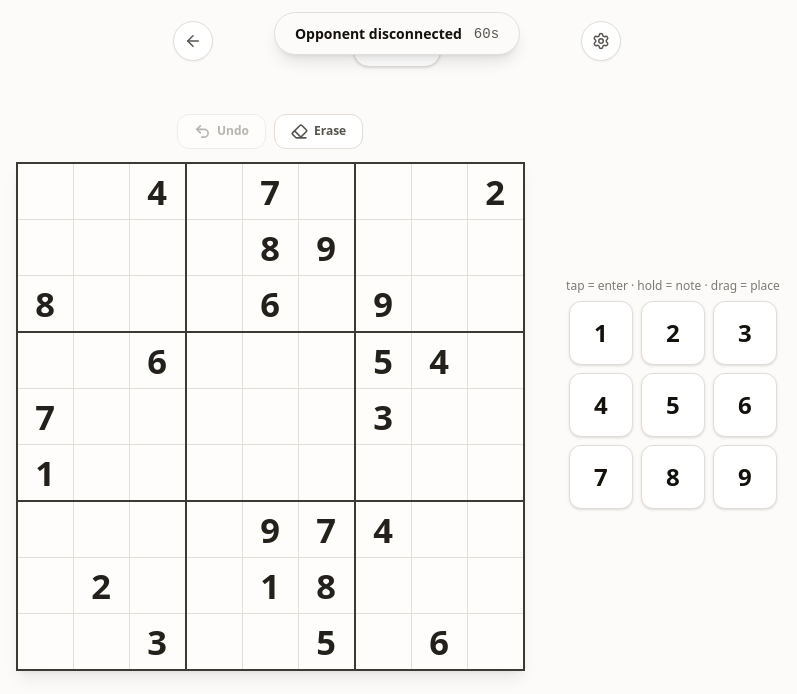
Scenario: MultiplayerGame disconnect overlay › keeps the loser's board playable while the opponent is away
expect the message shows "Opponent disconnected": met, box [295, 24, 462, 42]
Click the cell named "Cell row 1 column 1, empty" at (45, 192), box [18, 164, 73, 219]
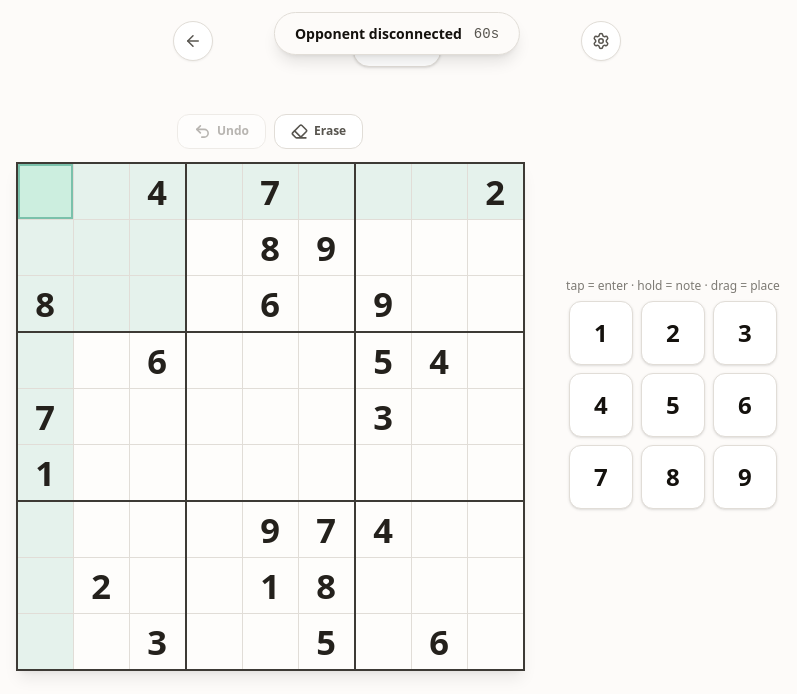
Press the mouse on the button labelled "5" at (673, 405), box [641, 373, 705, 437]
Wait 50 ms
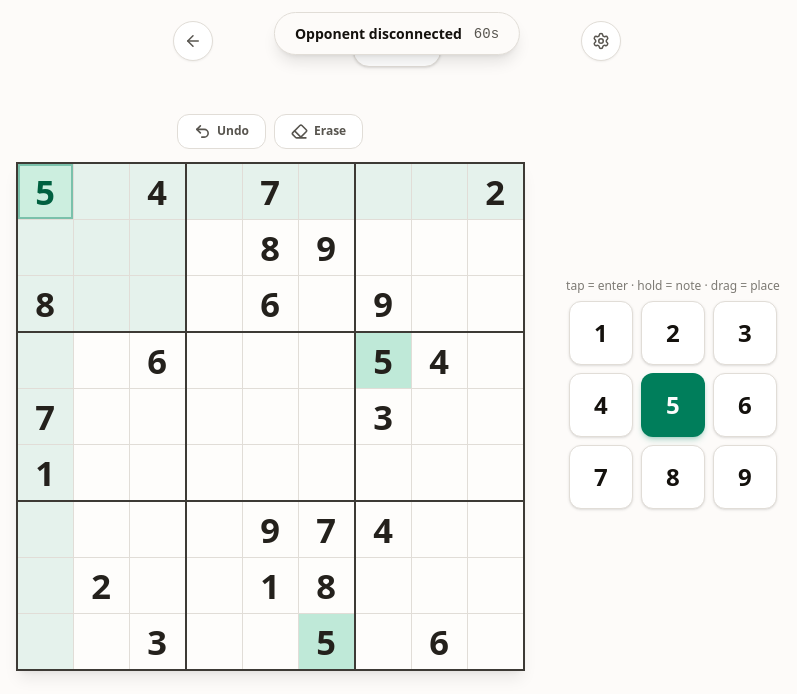
expect the cell named "Cell row 1 column 1, value 5" is shown: met, box [18, 164, 73, 219]
